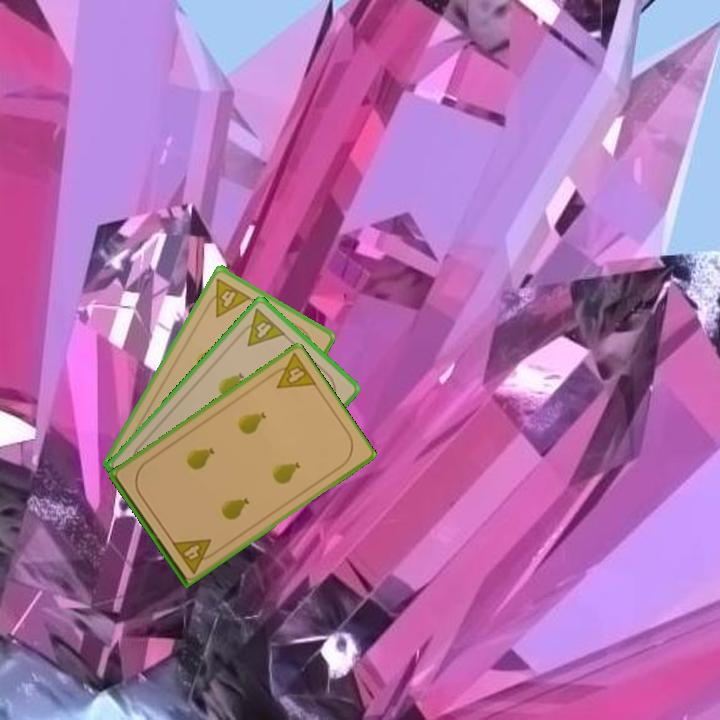4p: (201, 274, 254, 320), (234, 305, 288, 349), (264, 350, 319, 391), (168, 535, 220, 576)
